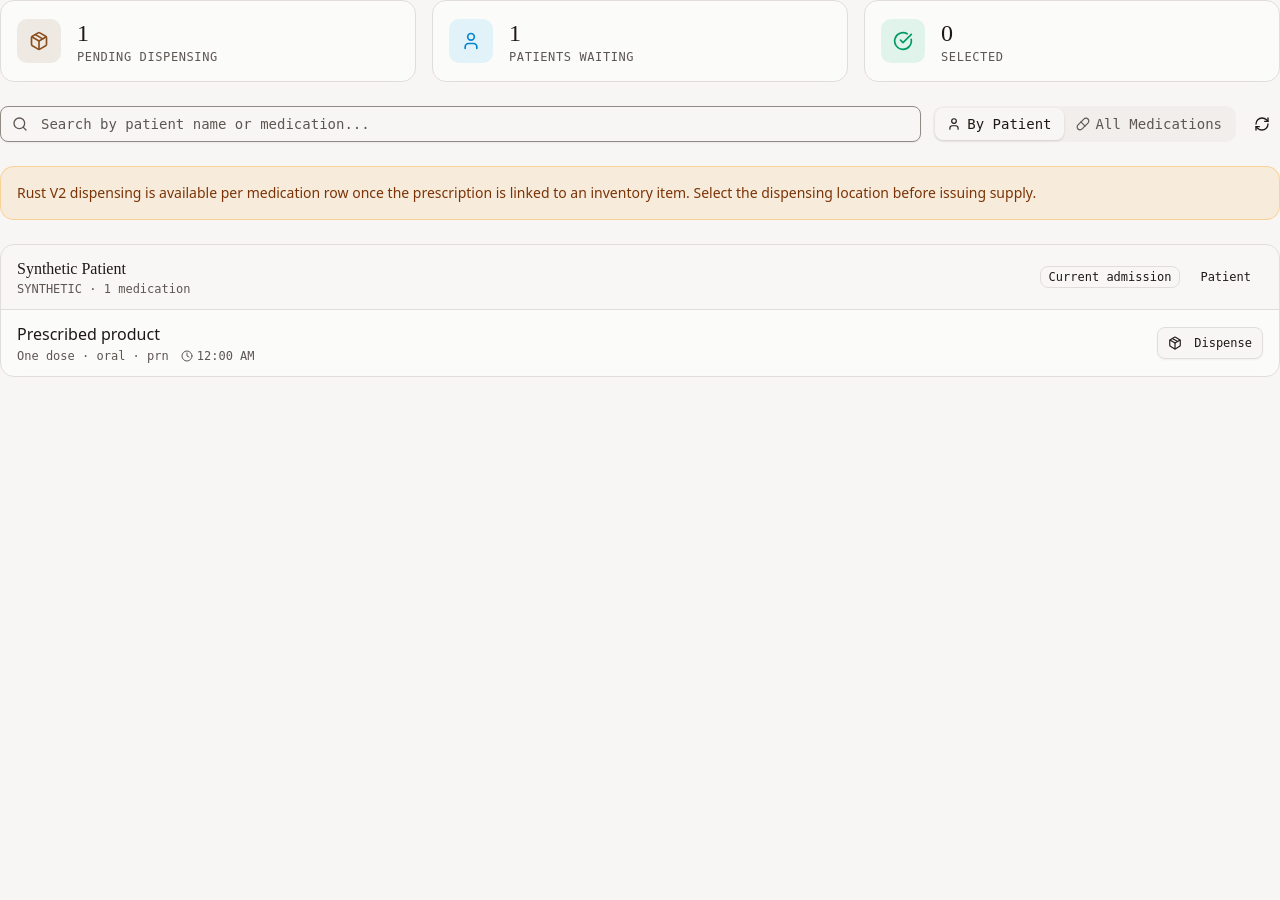
Test: real queue dispensing with named locations › requires explicit bounded location selection and posts linked identity with actual PRN dose basis
Click the button "Dispense" at (1210, 343), box [1157,327,1263,359]
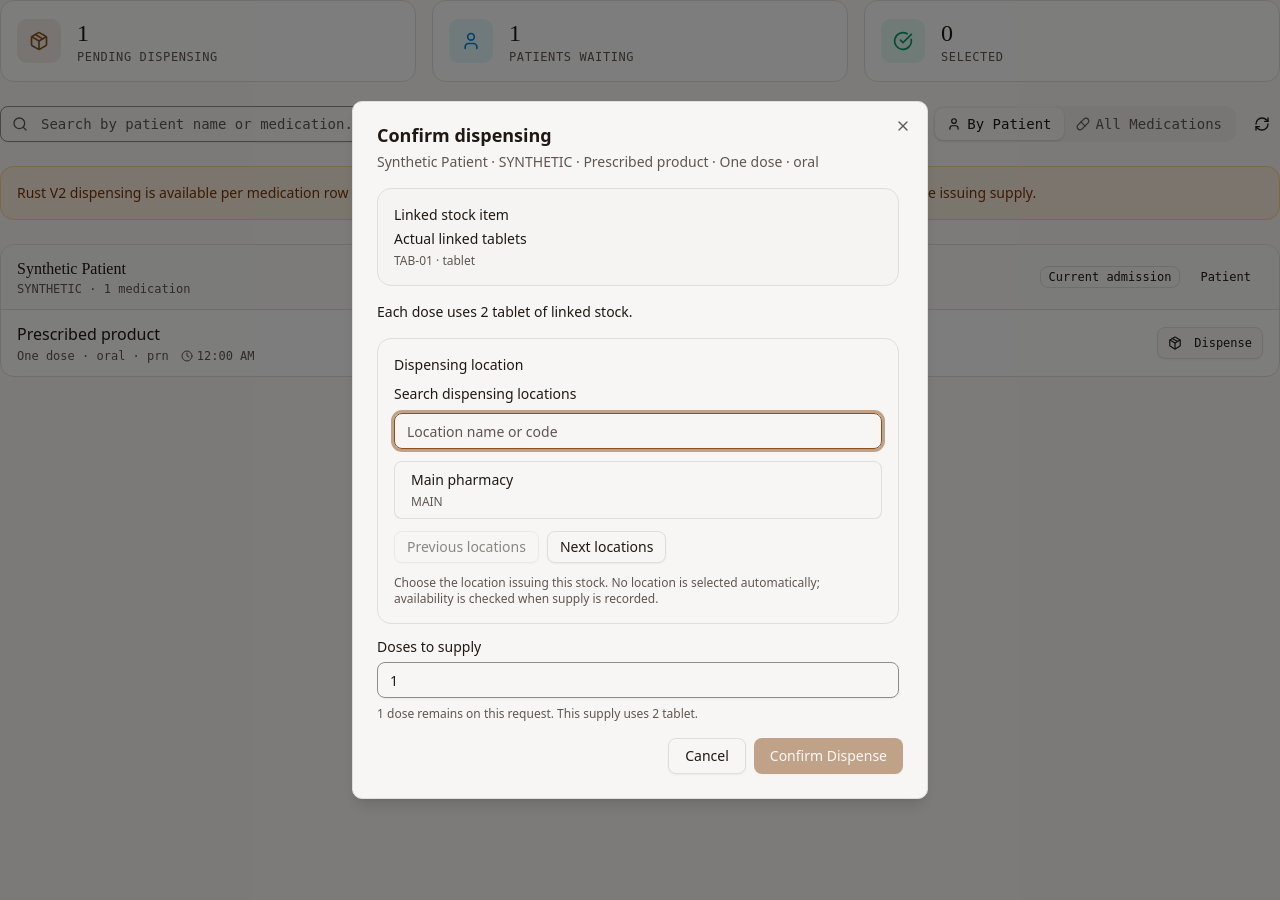
Expected: the dialog shows "Synthetic Patient · SYNTHETIC", [352,101,928,799]
Expected: the button "Confirm Dispense" is disabled, [754,738,903,774]
Expected: the text "Actual linked tablets" is shown, [394,229,527,248]
Click the button "Next locations" at (607, 547), box [547,531,666,563]
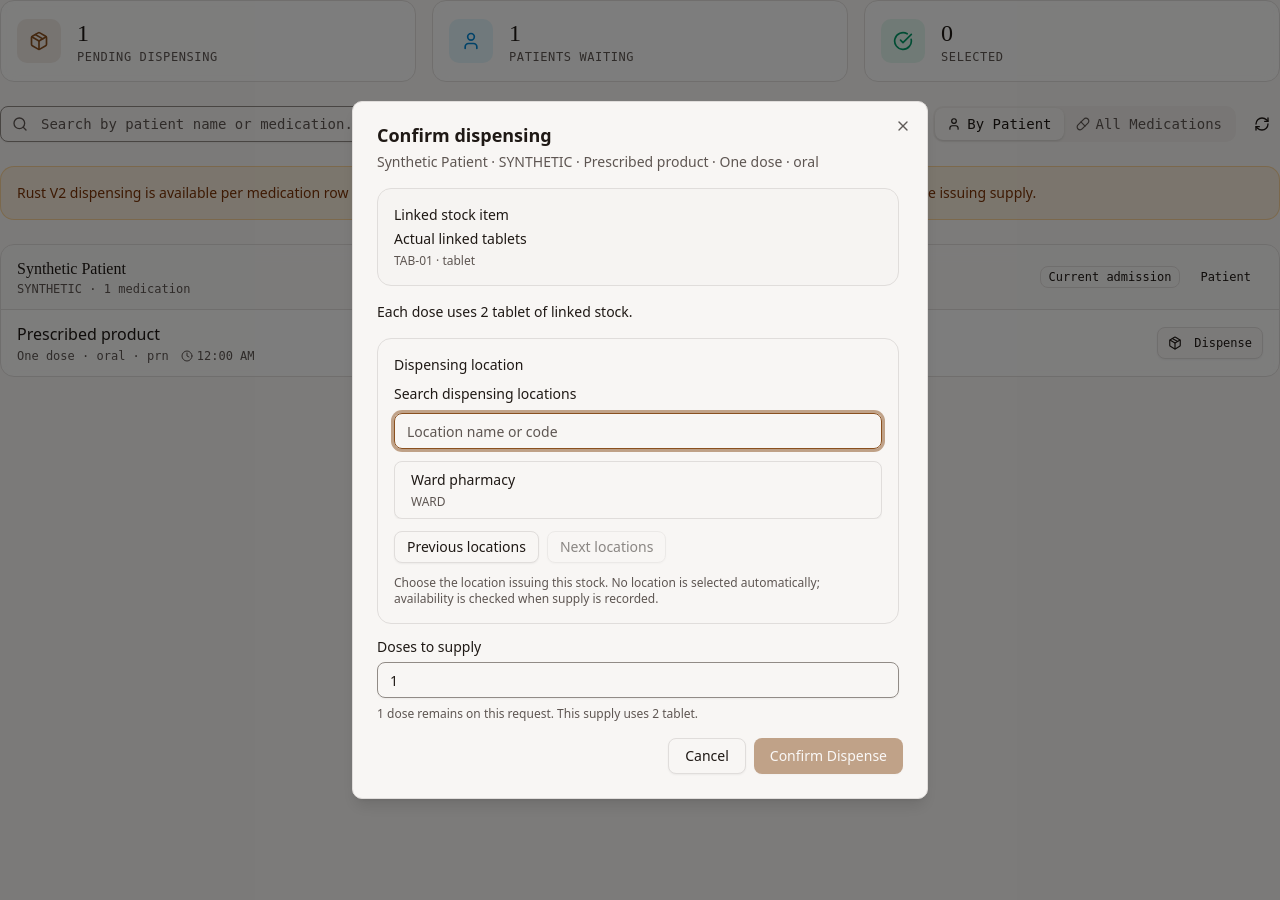
Click the button "Ward pharmacy WARD" at (463, 480), box [394,461,882,519]
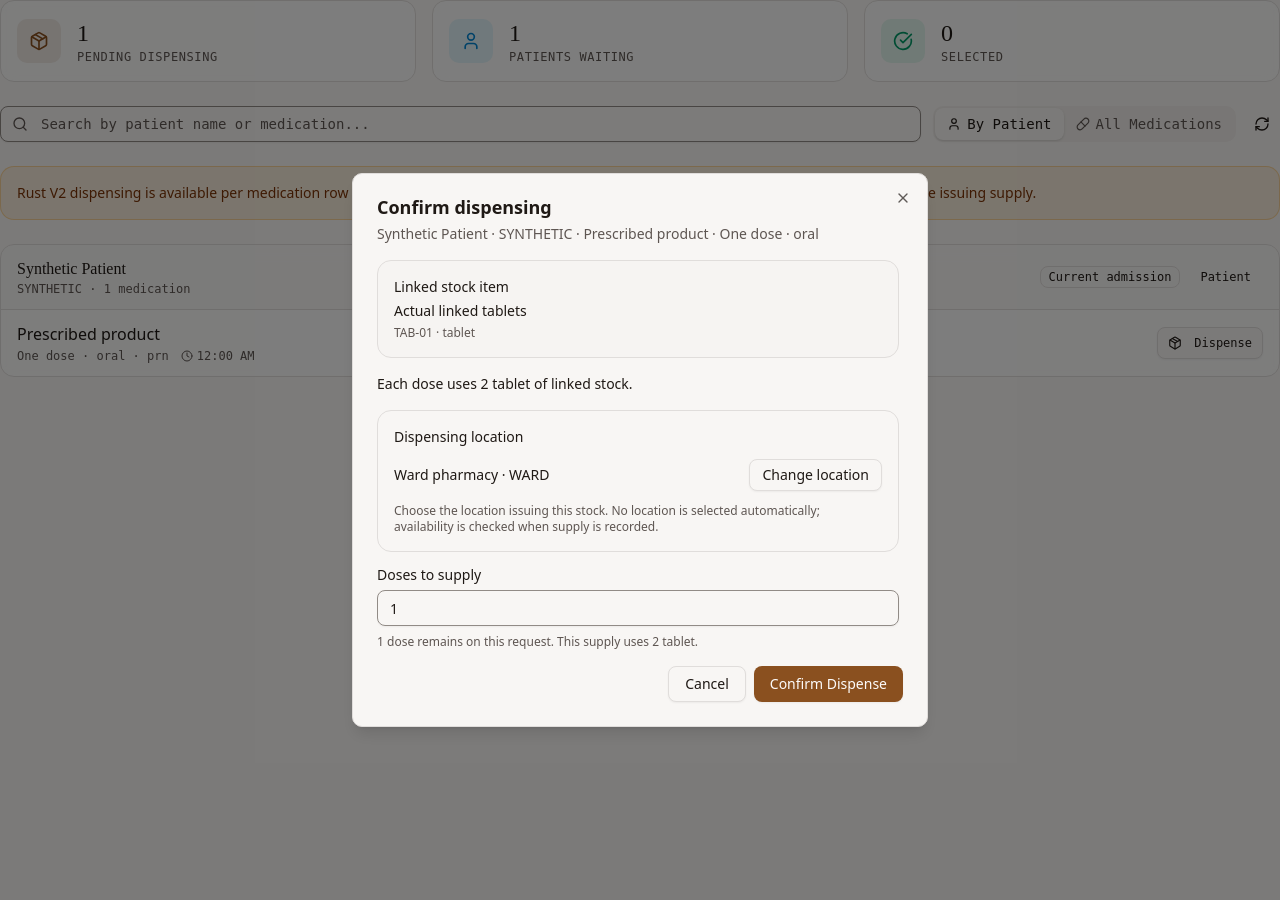
Expected: the button "Main pharmacy" is not shown
Expected: the text "1 dose remains on this request. This supply uses 2 tablet." is shown, [377,633,698,650]
Click the button "Confirm Dispense" at (828, 684), box [754,666,903,702]
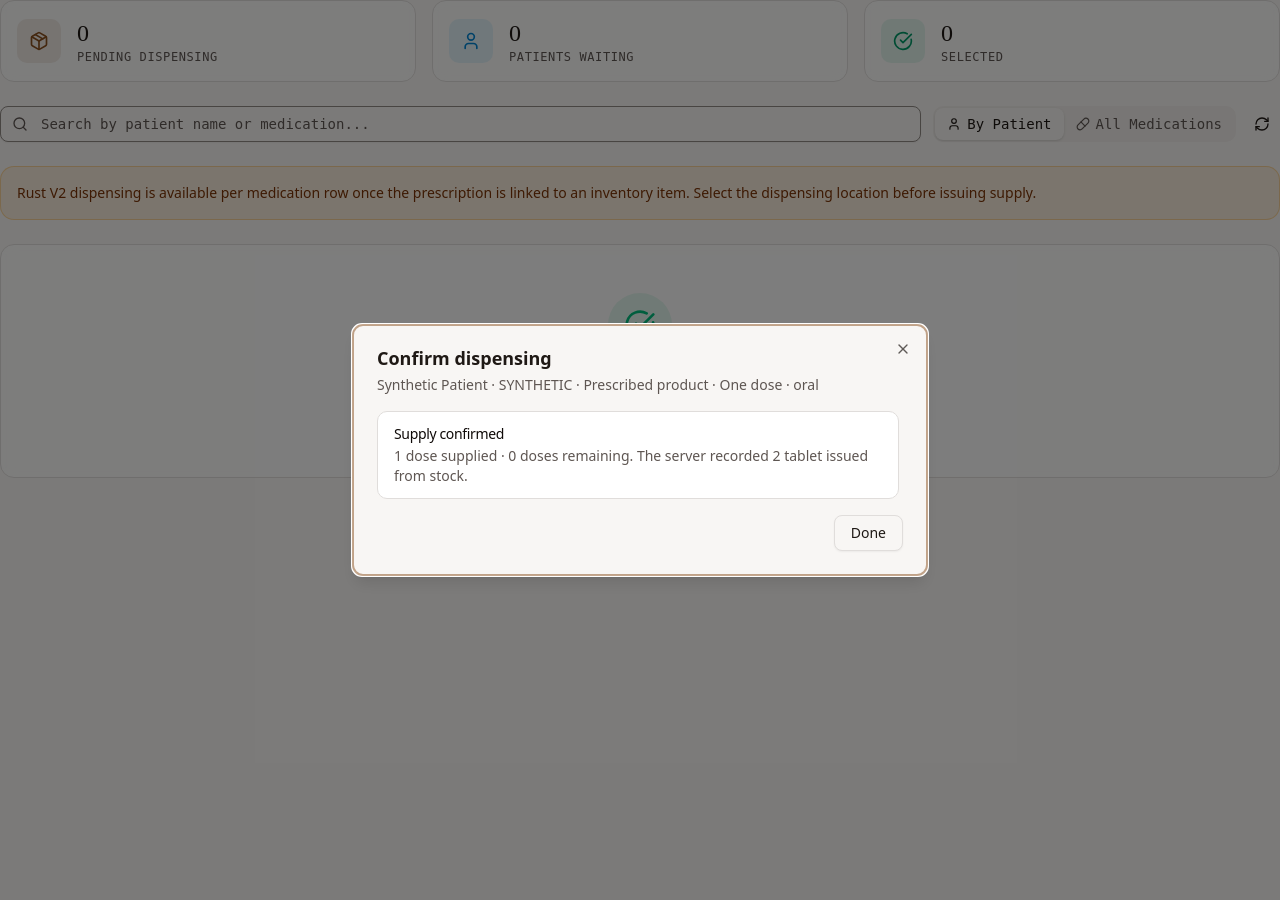
Expected: the text "Supply confirmed" is shown, [394,424,504,443]
